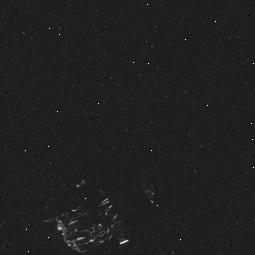lisa_pathfinder: (35, 169, 156, 253)
